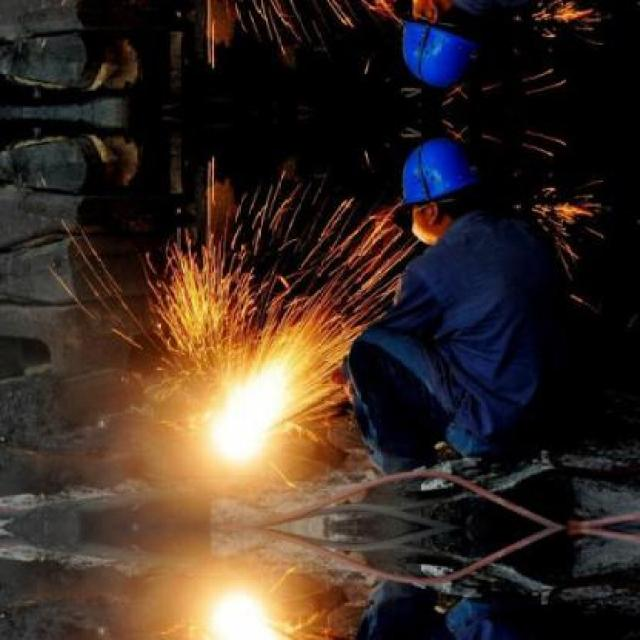helmet: (392, 130, 491, 244), (392, 0, 492, 96)
